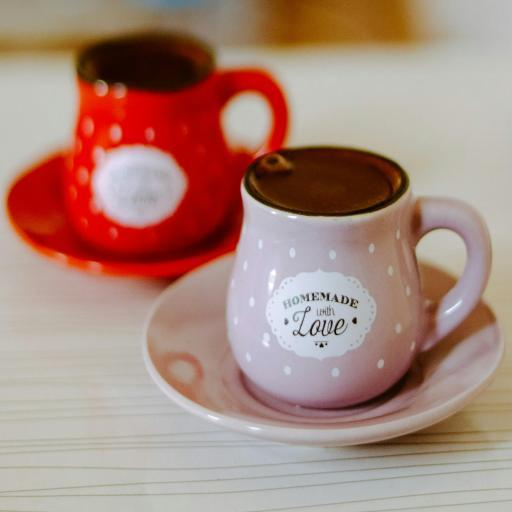cup: (63, 28, 288, 260)
